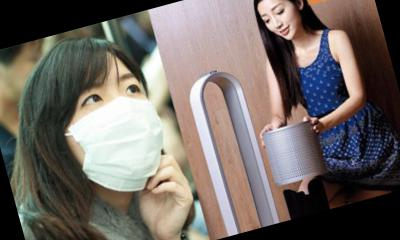with_mask: (54, 65, 179, 207)
